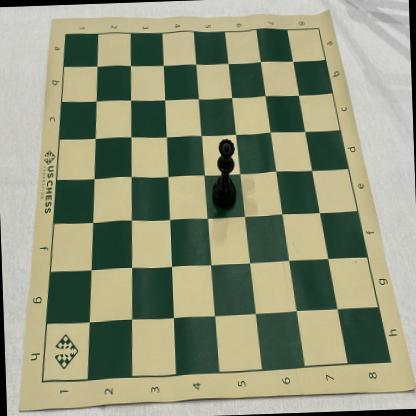queen: (210, 138, 238, 212)
